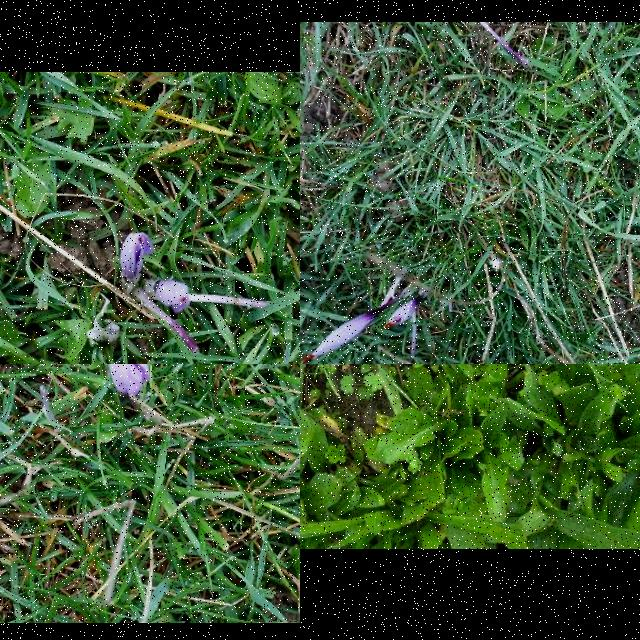flower: (303, 309, 378, 364), (120, 232, 154, 282), (110, 364, 150, 393), (382, 302, 422, 330), (156, 280, 190, 312)
